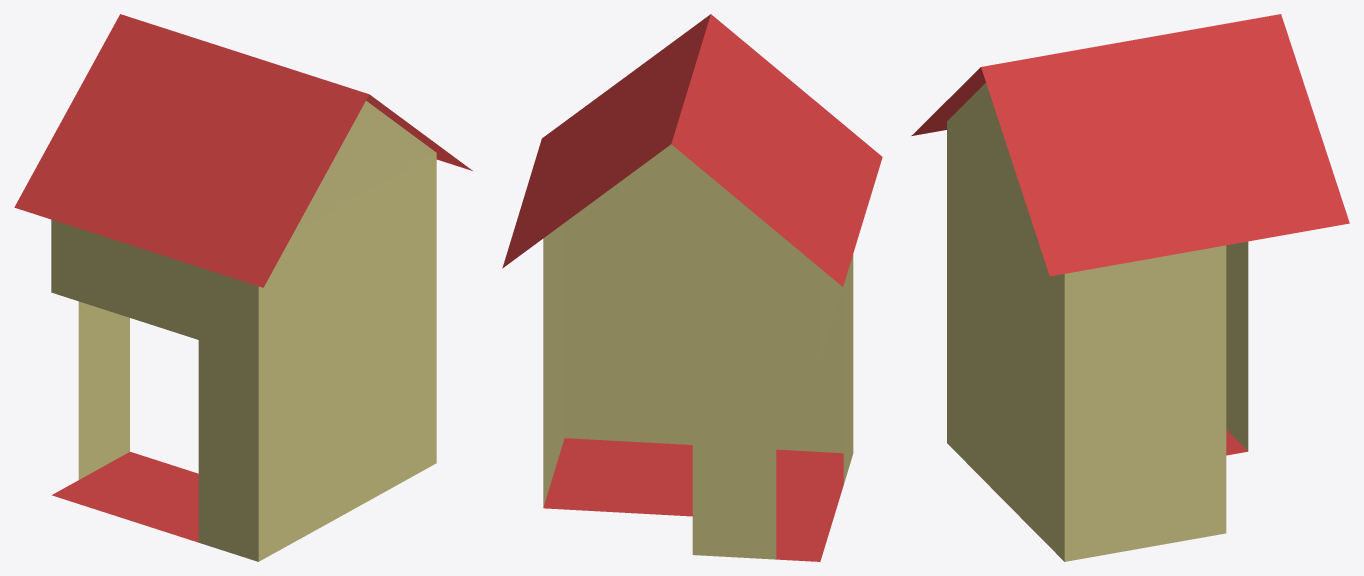
3 views of the same model, side by side, from view 1: azimuth 30°, elevation 25°; view 2: azimuth 150°, elevation 25°; view 3: azimuth 270°, elevation 25° (orthographic). The views are drawn at different scales.
Bounding box in the file's own units: 12.45 × 11.95 × 13.24.
